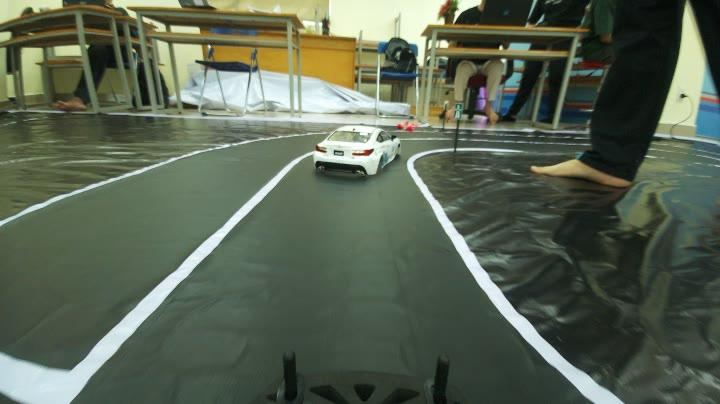car: (310, 118, 402, 183)
